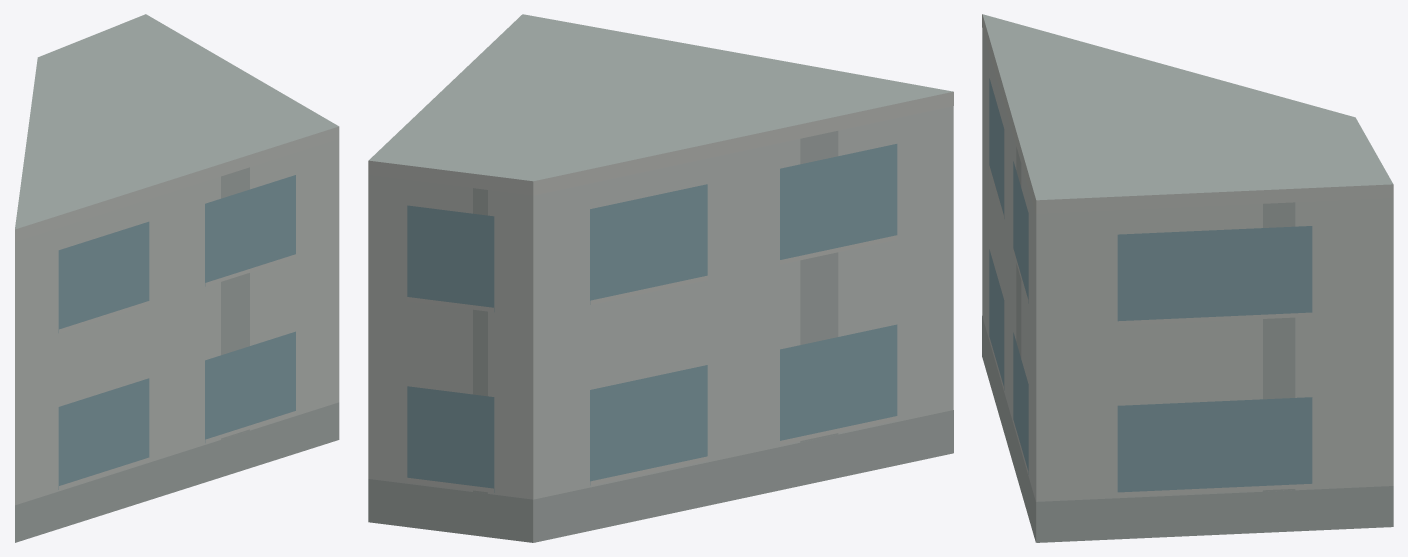
Rendered from residential-eadc2333-6344-451a-b46d-022f34a3ea27.glb.
The picture shows the model from 3 angles, left to right: view 1: azimuth 30°, elevation 25°; view 2: azimuth 150°, elevation 25°; view 3: azimuth 270°, elevation 25°; orthographic projection. The views are drawn at different scales.
Visible parts, largest first — view 1: residential-eadc2333-6344-451a-b46d-022f34a3ea27.tmp; view 2: residential-eadc2333-6344-451a-b46d-022f34a3ea27.tmp; view 3: residential-eadc2333-6344-451a-b46d-022f34a3ea27.tmp.
Part boxes in pixels (x1=…): residential-eadc2333-6344-451a-b46d-022f34a3ea27.tmp: x1=15, y1=14, x2=339, y2=542; residential-eadc2333-6344-451a-b46d-022f34a3ea27.tmp: x1=368, y1=14, x2=953, y2=542; residential-eadc2333-6344-451a-b46d-022f34a3ea27.tmp: x1=982, y1=14, x2=1393, y2=542.
Size of the model in its own units: 7.12 by 6.1 by 6.65.
